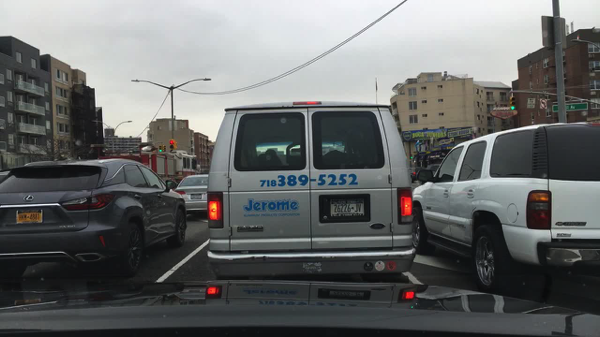car: (206, 101, 418, 282), (410, 121, 598, 293), (1, 157, 188, 284), (174, 174, 211, 216), (416, 163, 442, 184), (409, 167, 422, 180)
traffic light: (169, 138, 176, 153), (508, 96, 515, 111), (408, 153, 414, 160), (162, 145, 167, 153), (158, 145, 162, 153)
traffic sign: (541, 17, 565, 49), (551, 103, 588, 114), (538, 98, 548, 110), (525, 98, 535, 110)
